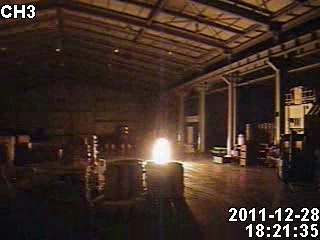fire: (150, 134, 172, 164)
